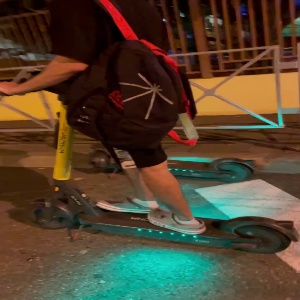human on a scooter: (1, 1, 298, 256)
